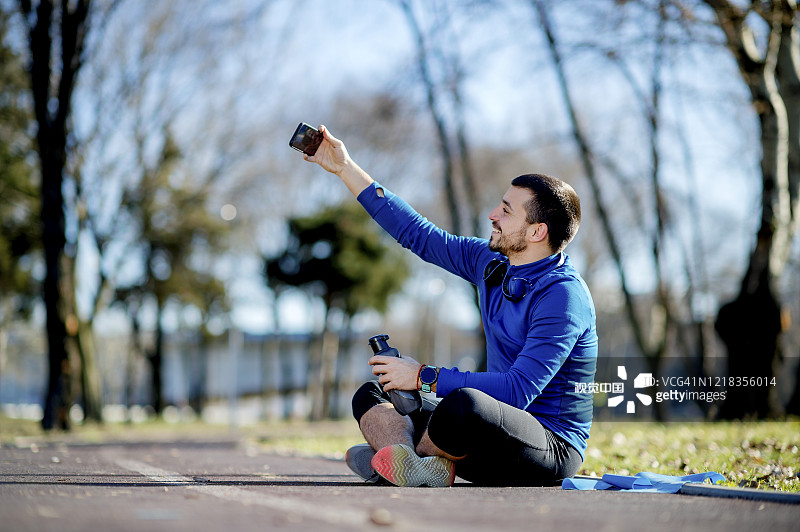no-phone: (361, 344, 437, 400)
taking photos: (279, 111, 351, 180)
